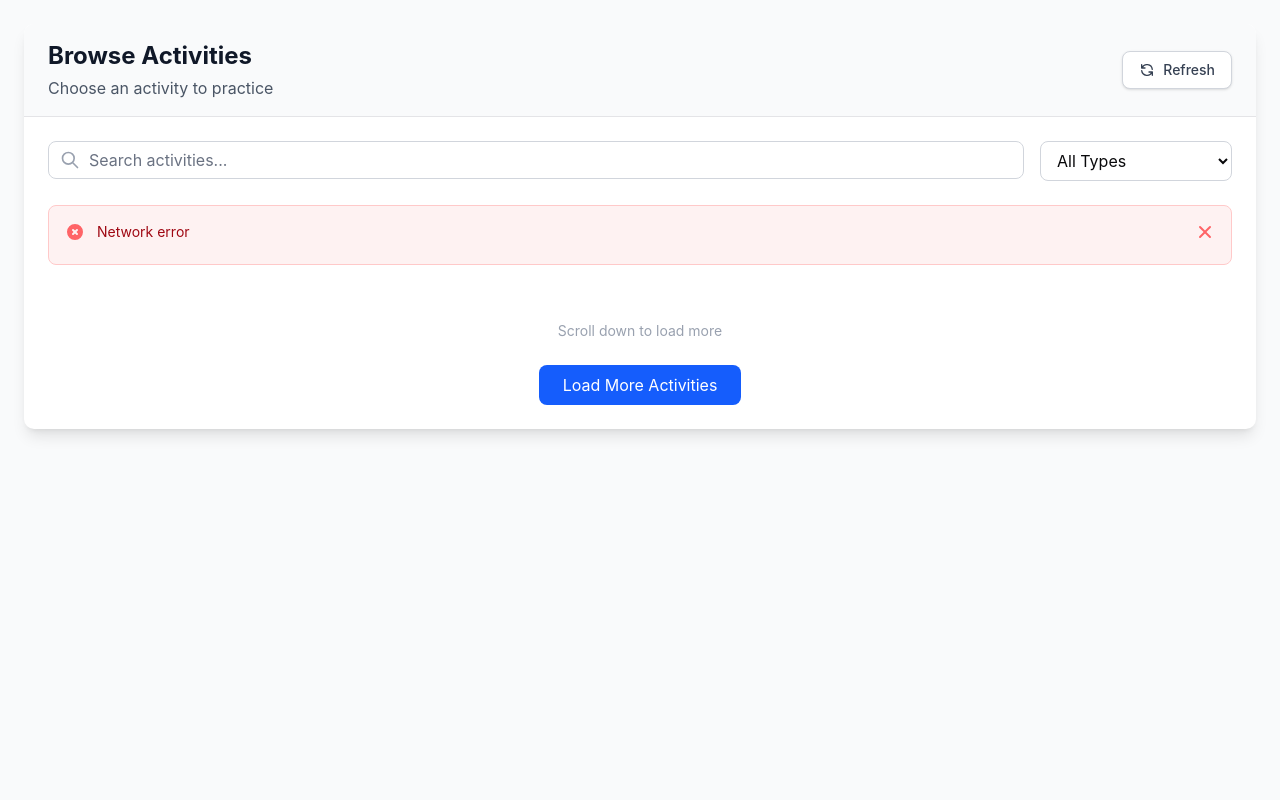
Test: ActivityBrowser › should allow error dismissal
Click the 2nd button.
click(1205, 232)  # box [1195,222,1215,242]
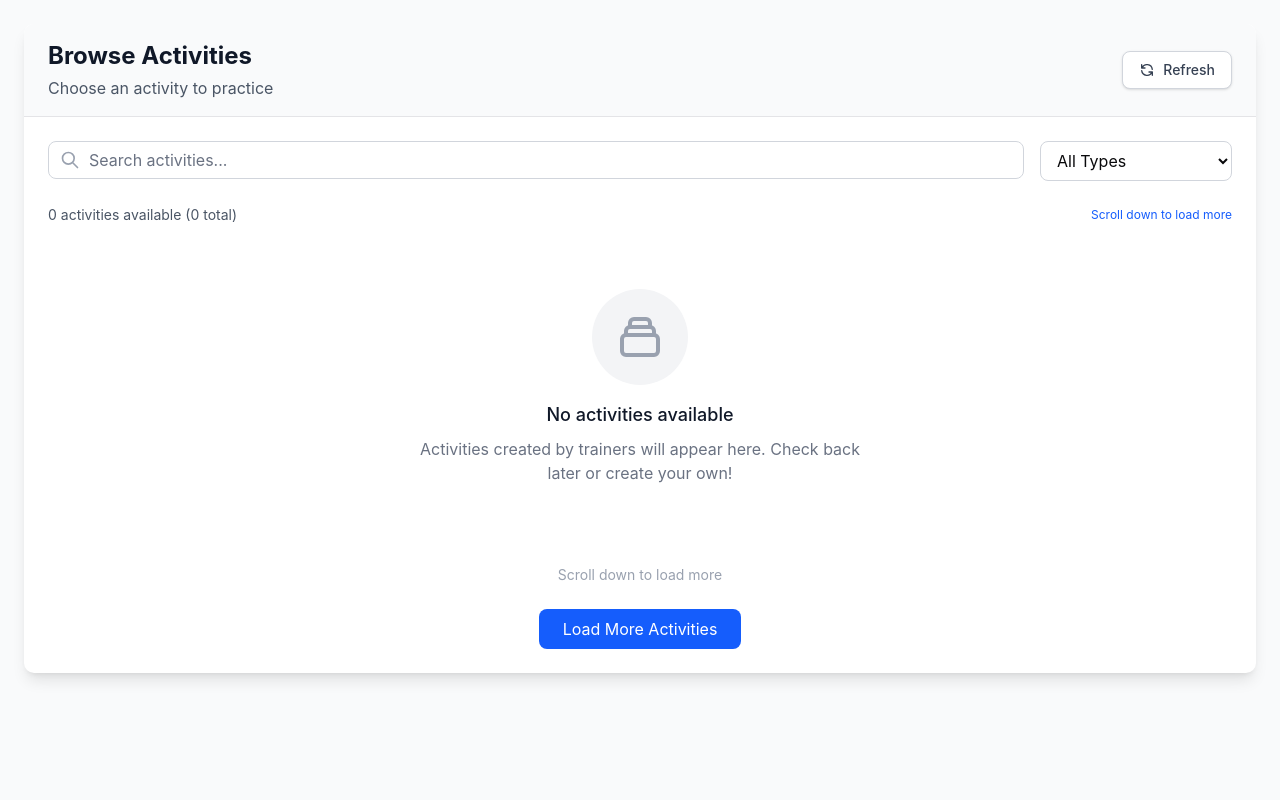
Expected: the text "Network error" is gone
